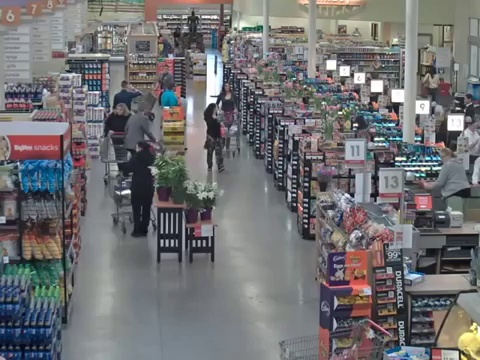face: (115, 105, 123, 116), (224, 84, 230, 91)
